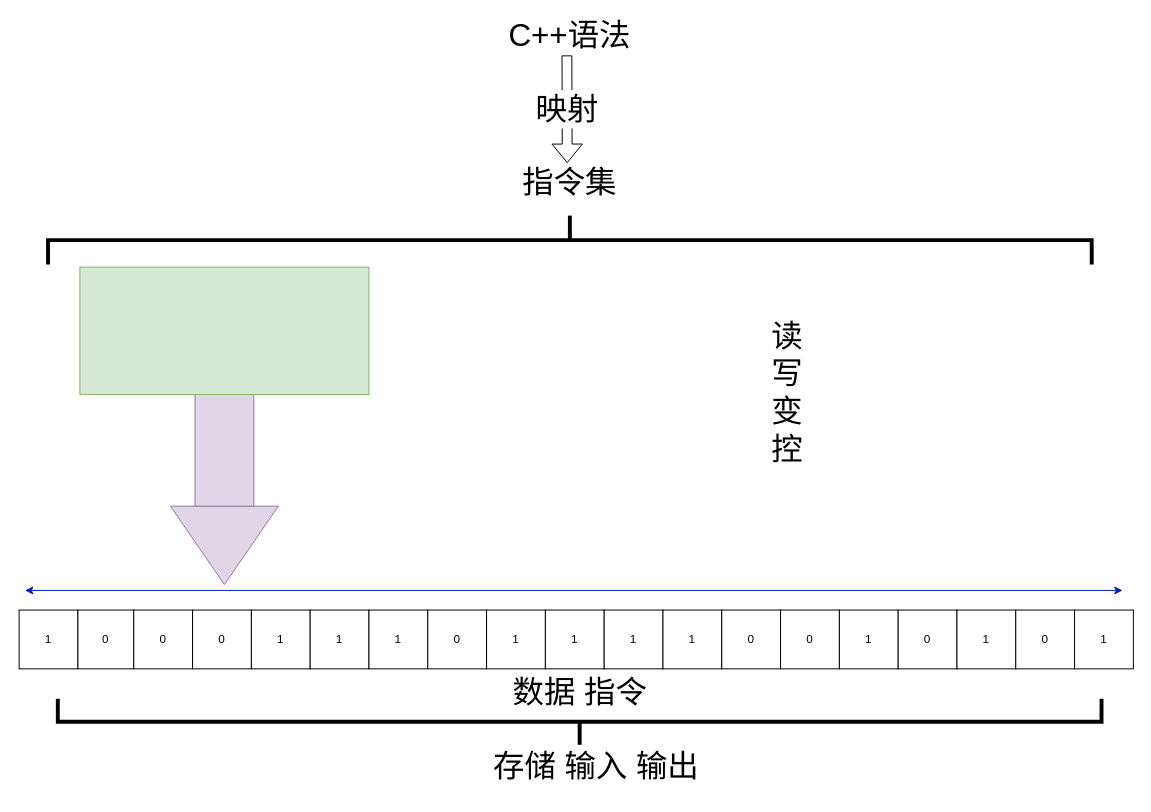
Some shapes in this 1151 by 812 pixel diagram are drawn without their labels. Each missing label, with the centre of its shape:
"控制" goes at pixel 224 545.
"运算" goes at pixel 224 330.
